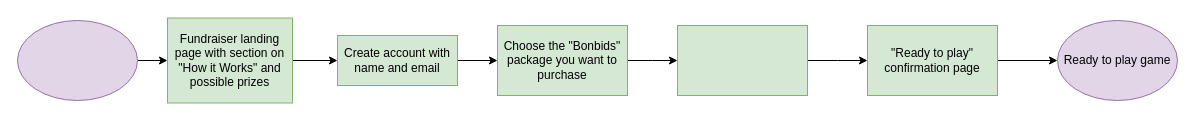
Some shapes in this 1195 by 120 pixel diagram are drawn without their labels. The centre of each missing label's shape, as x and y in pixels:
"Confirm package selection and add payment" goes at pixel 742 60.
"User receives email from fundraiser with link to follow" goes at pixel 77 60.
